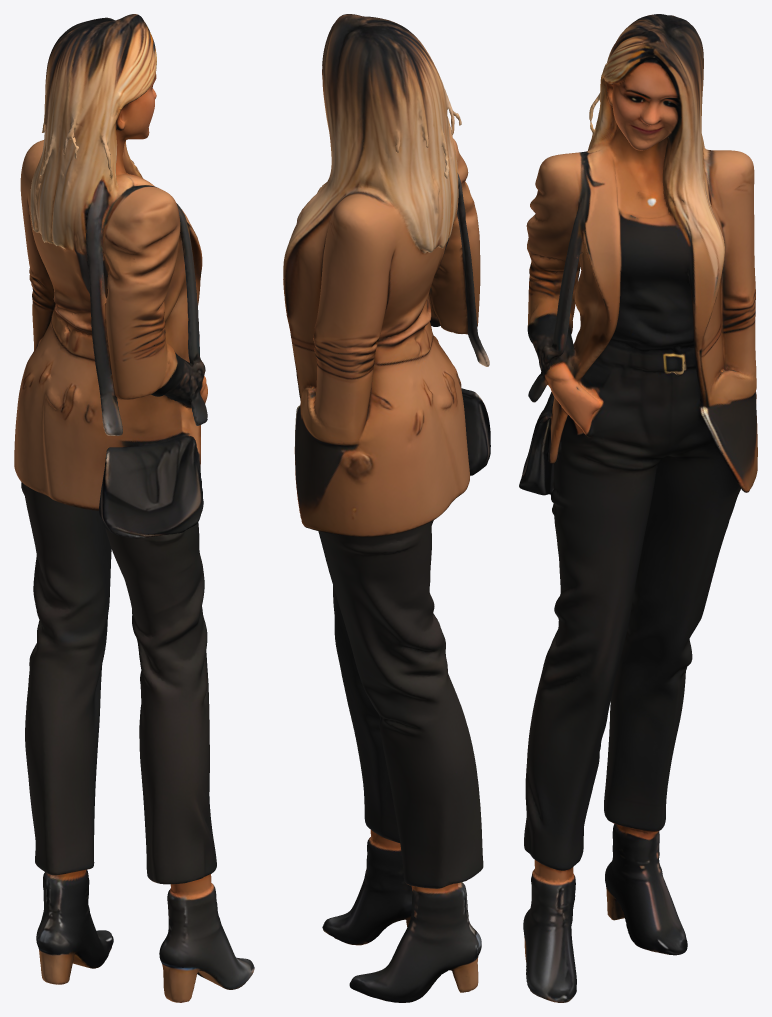
Rendered from avatar.glb.
The picture shows the model from 3 angles, left to right: view 1: azimuth 30°, elevation 25°; view 2: azimuth 150°, elevation 25°; view 3: azimuth 270°, elevation 25°; orthographic projection. The views are drawn at different scales.
Parts seen in each view (by area): view 1: tripo_node_6ca9ce25-2619-43d1-ad54-76d2a85b6c38; view 2: tripo_node_6ca9ce25-2619-43d1-ad54-76d2a85b6c38; view 3: tripo_node_6ca9ce25-2619-43d1-ad54-76d2a85b6c38.
Part boxes in pixels (x1,y1,x2,y2): tripo_node_6ca9ce25-2619-43d1-ad54-76d2a85b6c38: (14,14,254,1002); tripo_node_6ca9ce25-2619-43d1-ad54-76d2a85b6c38: (283,14,490,1002); tripo_node_6ca9ce25-2619-43d1-ad54-76d2a85b6c38: (519,14,757,1002).
Bounding box in the file's own units: 0.2031 × 1 × 0.2304.
1 material, 1 textured.
